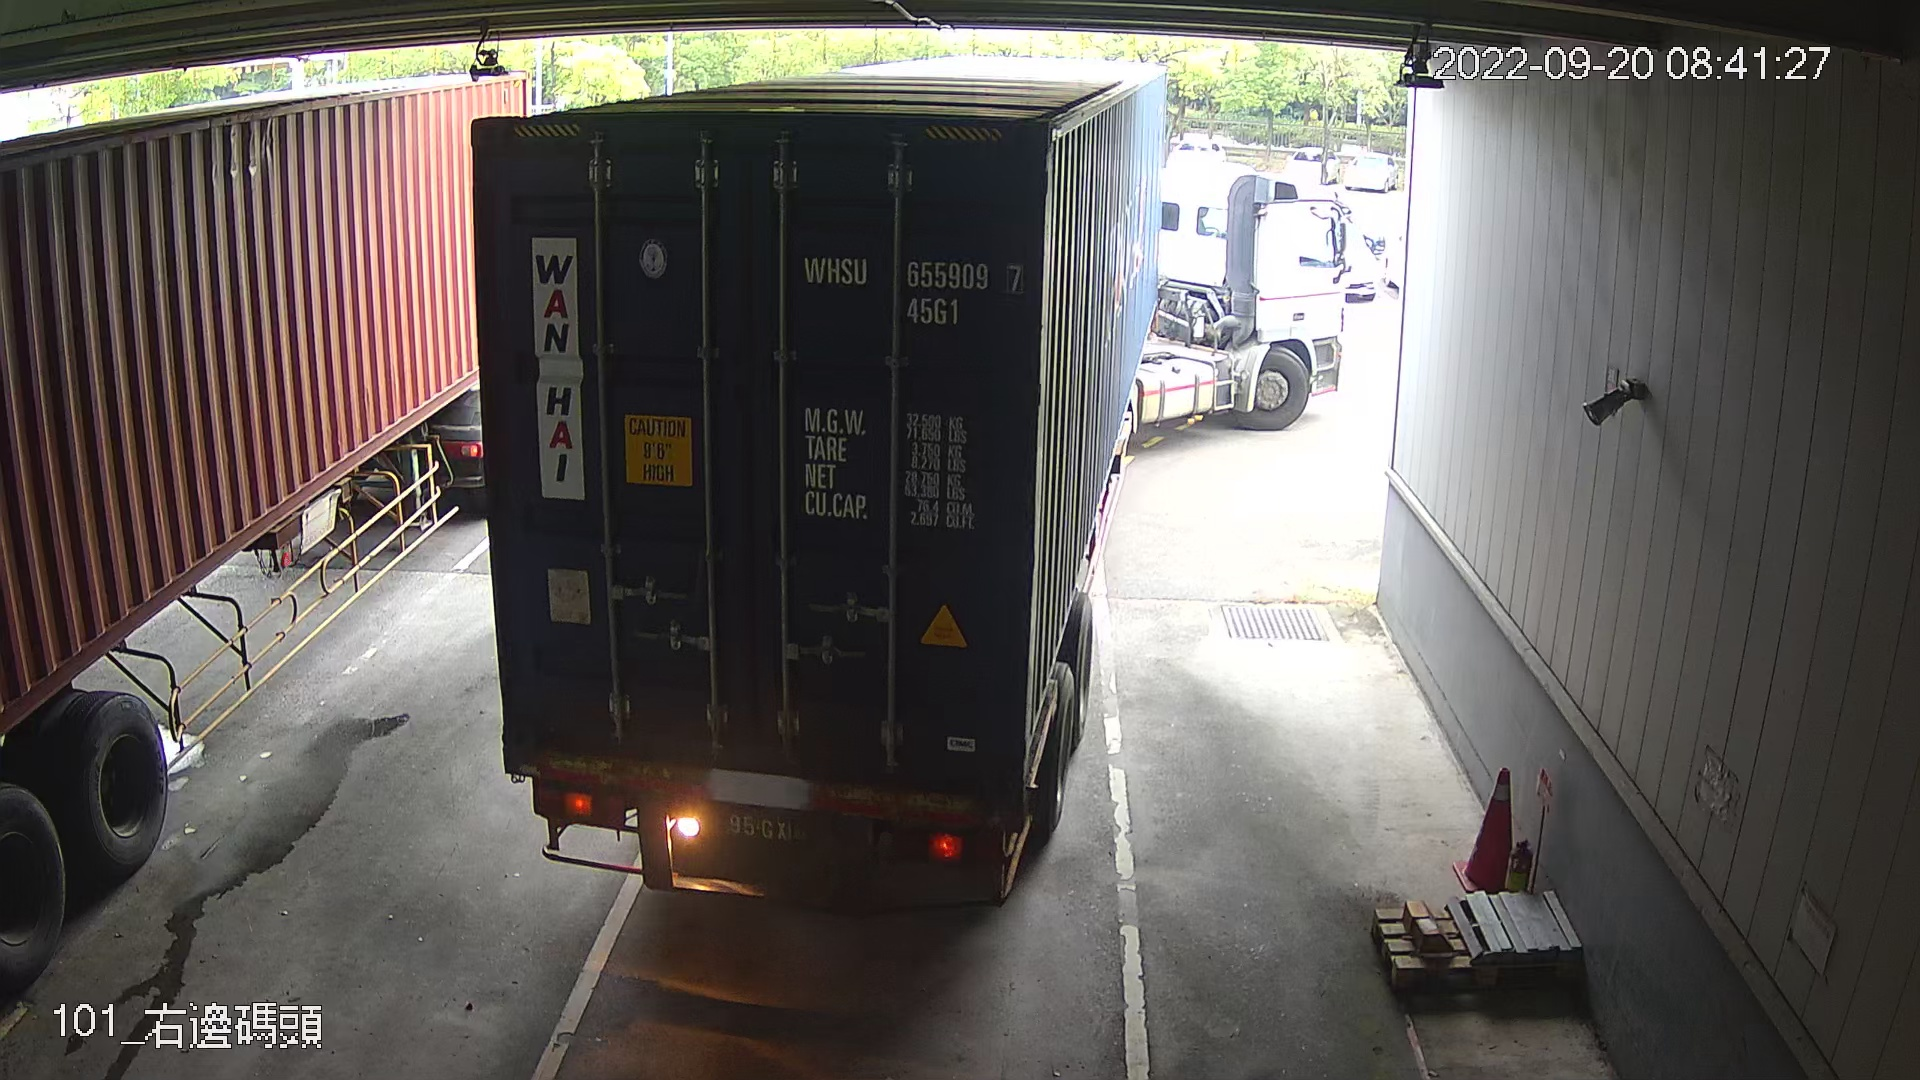container: (794, 245, 1035, 334)
